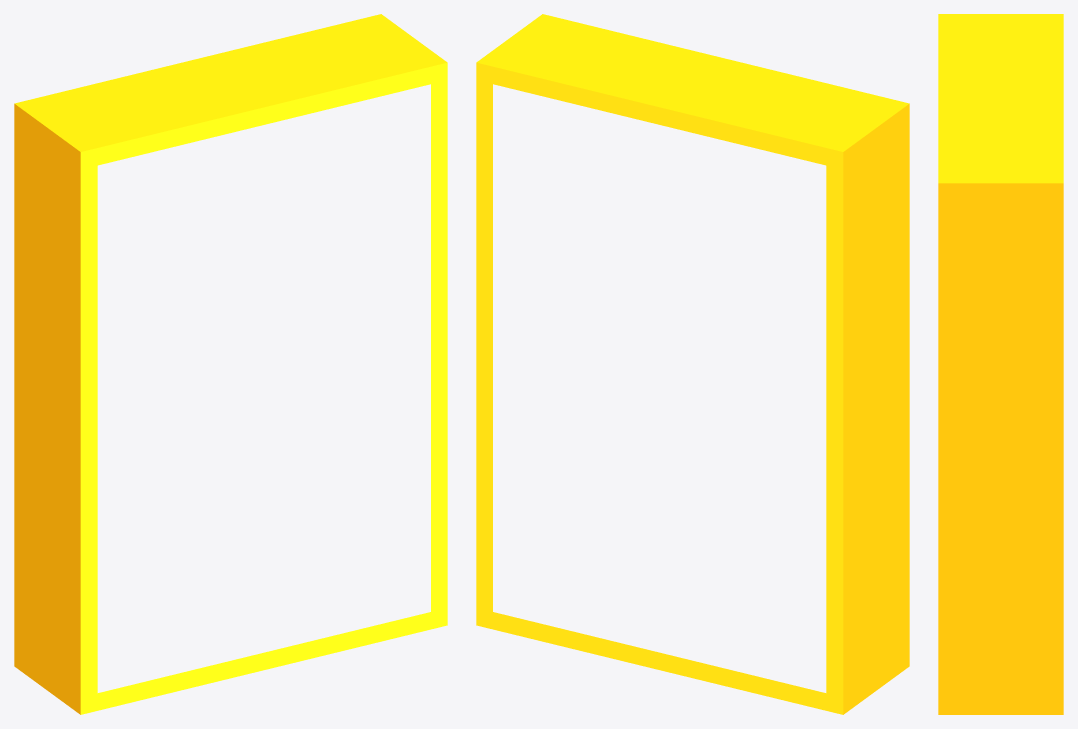
3 views of the same model, side by side, from view 1: azimuth 30°, elevation 25°; view 2: azimuth 150°, elevation 25°; view 3: azimuth 270°, elevation 25° (orthographic). The views are drawn at different scales.
Visible parts, largest first — view 1: 0_AlphaProta_Yellow; view 2: 0_AlphaProta_Yellow; view 3: 0_AlphaProta_Yellow.
Boxes of the visible parts, x1,y1,x2,y2 form: 0_AlphaProta_Yellow: (14,14,447,714); 0_AlphaProta_Yellow: (476,14,909,714); 0_AlphaProta_Yellow: (938,14,1063,714).
Size of what is drawn, in the model's own units: 0.1436 by 0.2105 by 0.045.
2 materials, 2 textured.
